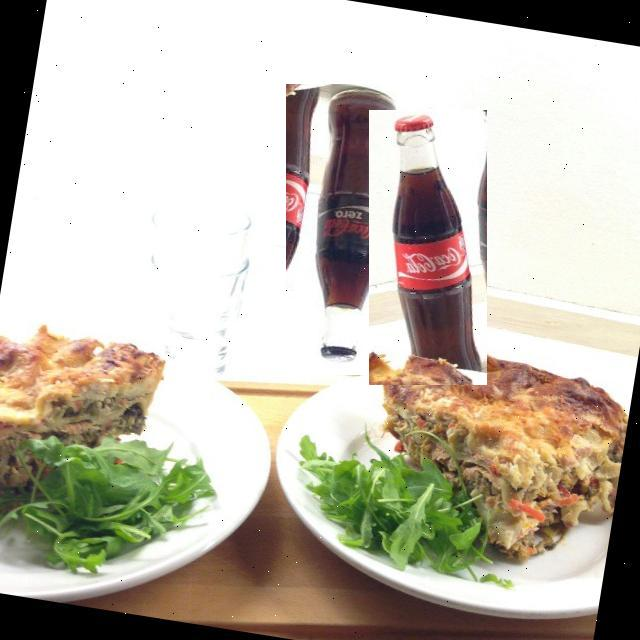coca-cola: (286, 84, 408, 375), (369, 110, 487, 385)
